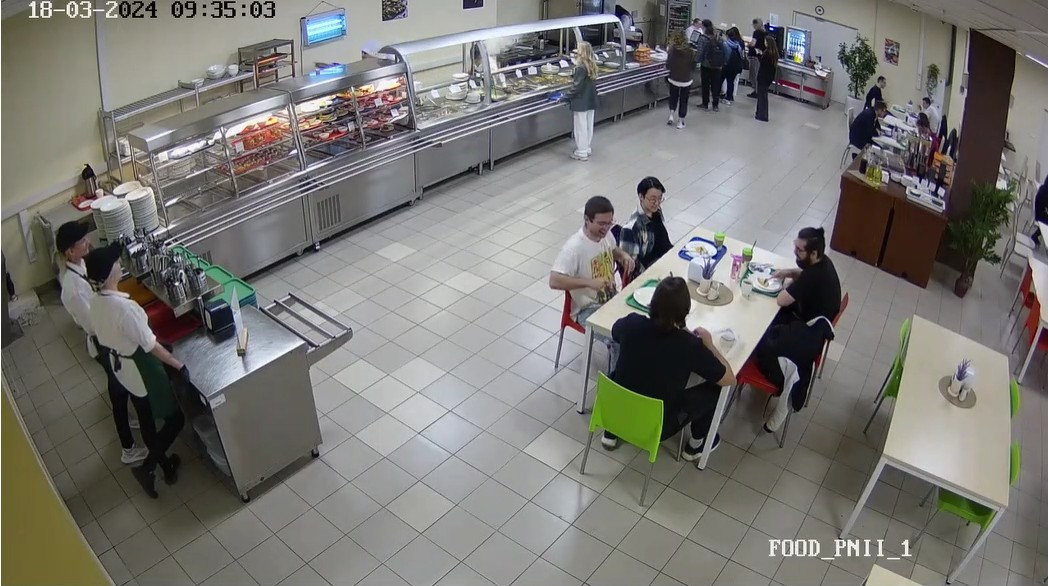Na_Kasse: (699, 22, 724, 116), (752, 39, 776, 116), (722, 27, 738, 103), (749, 13, 764, 37)
Personal: (75, 246, 200, 499), (52, 219, 98, 357), (467, 40, 496, 77), (680, 17, 703, 37)
Vybiraet: (562, 45, 604, 164), (662, 40, 693, 124)
Za_Stolom: (592, 282, 710, 467), (549, 204, 629, 383), (759, 223, 843, 340), (625, 171, 675, 265), (842, 102, 887, 160), (1033, 158, 1048, 244), (909, 112, 943, 144), (868, 71, 891, 107), (910, 92, 937, 112)
